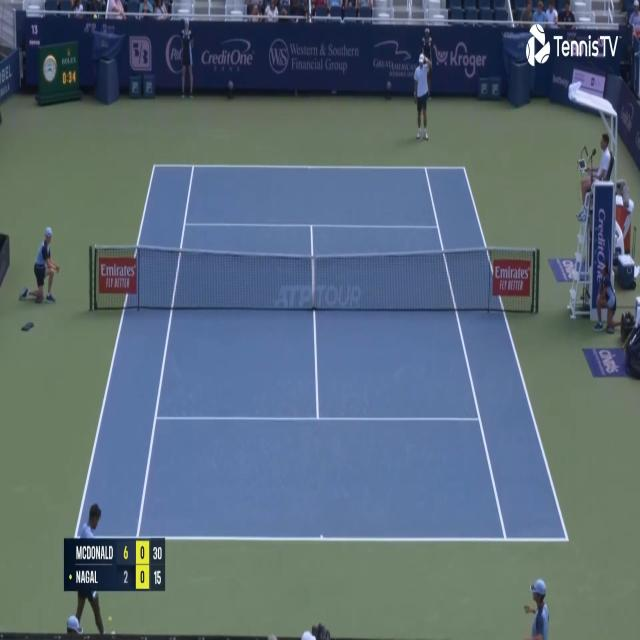tennis-player: (61, 498, 116, 636), (411, 51, 431, 142)
